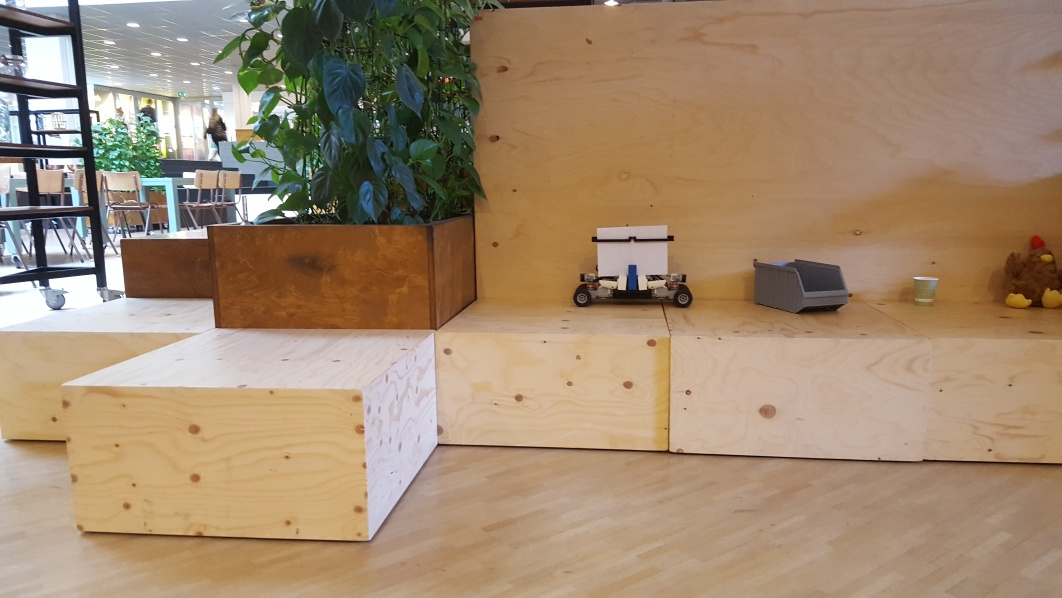beam: (625, 265, 643, 297)
chicken: (1003, 232, 1062, 309)
cup: (908, 273, 942, 311)
tray: (747, 256, 857, 314)
